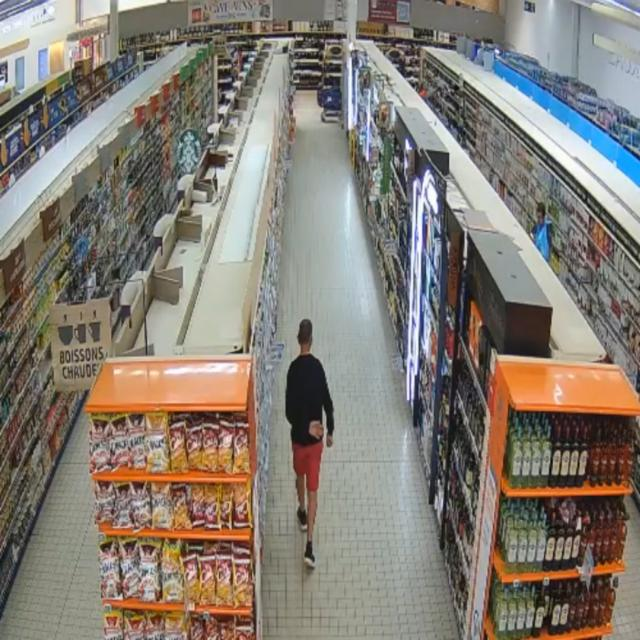hands: (310, 421, 324, 439), (327, 435, 333, 447)
person: (286, 320, 333, 568), (532, 203, 551, 261)
